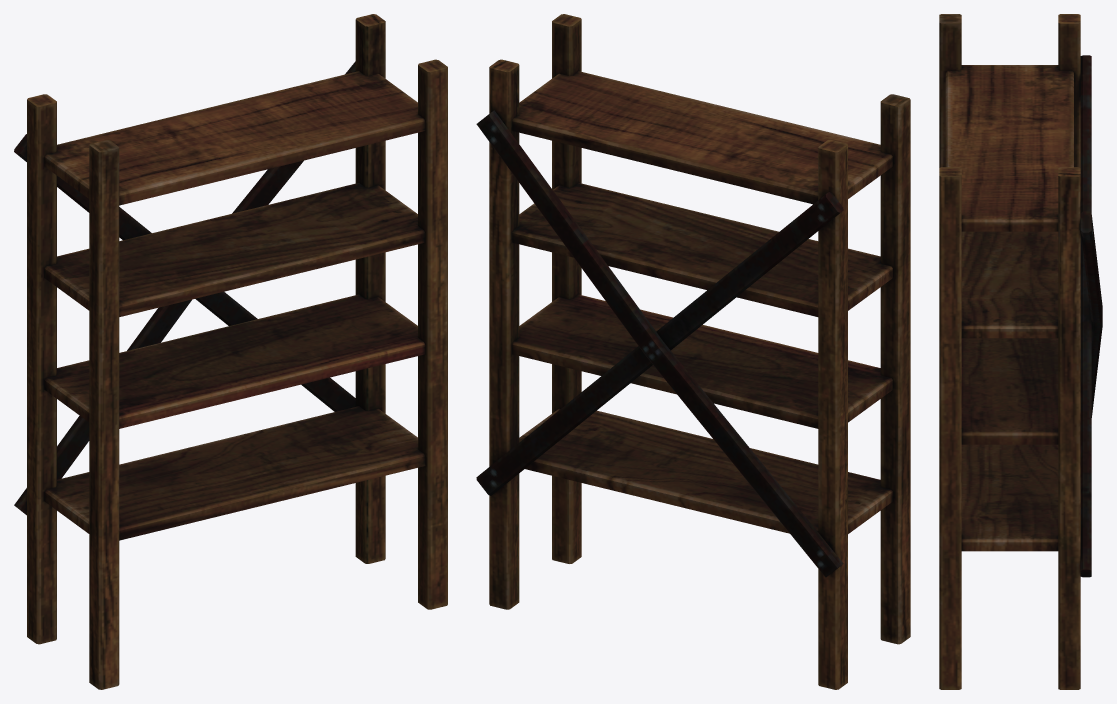
File: shelf_no_back02.dae
The picture shows the model from 3 angles, left to right: view 1: azimuth 30°, elevation 25°; view 2: azimuth 150°, elevation 25°; view 3: azimuth 270°, elevation 25°; orthographic projection. The views are drawn at different scales.
Parts seen in each view (by area): view 1: shelf_no_back; view 2: shelf_no_back; view 3: shelf_no_back.
Part boxes in pixels (<box>): shelf_no_back: <box>14,14,447,689</box>; shelf_no_back: <box>476,14,910,689</box>; shelf_no_back: <box>939,14,1102,689</box>.
Bounding box in the file's own units: 2.12 × 3 × 0.8668.
Materials: 1 (1 with a texture image).
